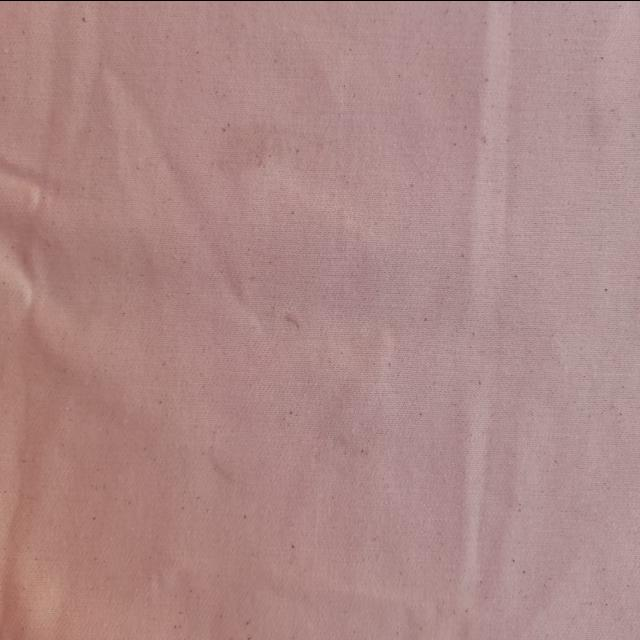taaaches: (218, 116, 286, 187), (280, 306, 306, 337)
